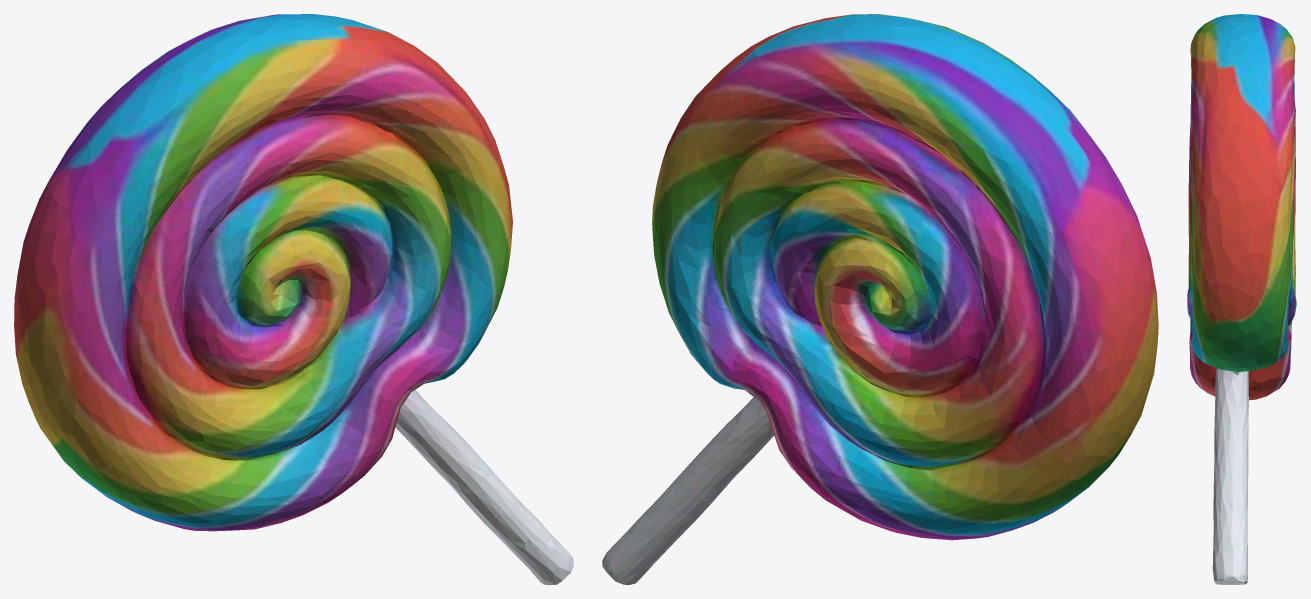
File: lollipop.glb
The picture shows the model from 3 angles, left to right: view 1: azimuth 30°, elevation 25°; view 2: azimuth 150°, elevation 25°; view 3: azimuth 270°, elevation 25°; orthographic projection. The views are drawn at different scales.
Visible parts, largest first — view 1: tmpcssh6al7.ply; view 2: tmpcssh6al7.ply; view 3: tmpcssh6al7.ply.
Part boxes in pixels (left/top/right/bottom): tmpcssh6al7.ply: left=14, top=14, right=573, bottom=584; tmpcssh6al7.ply: left=602, top=14, right=1158, bottom=584; tmpcssh6al7.ply: left=1187, top=14, right=1296, bottom=584.
Size of the model in its own units: 1.81 by 1.99 by 0.4341.
Materials: 1 (1 with a texture image).
